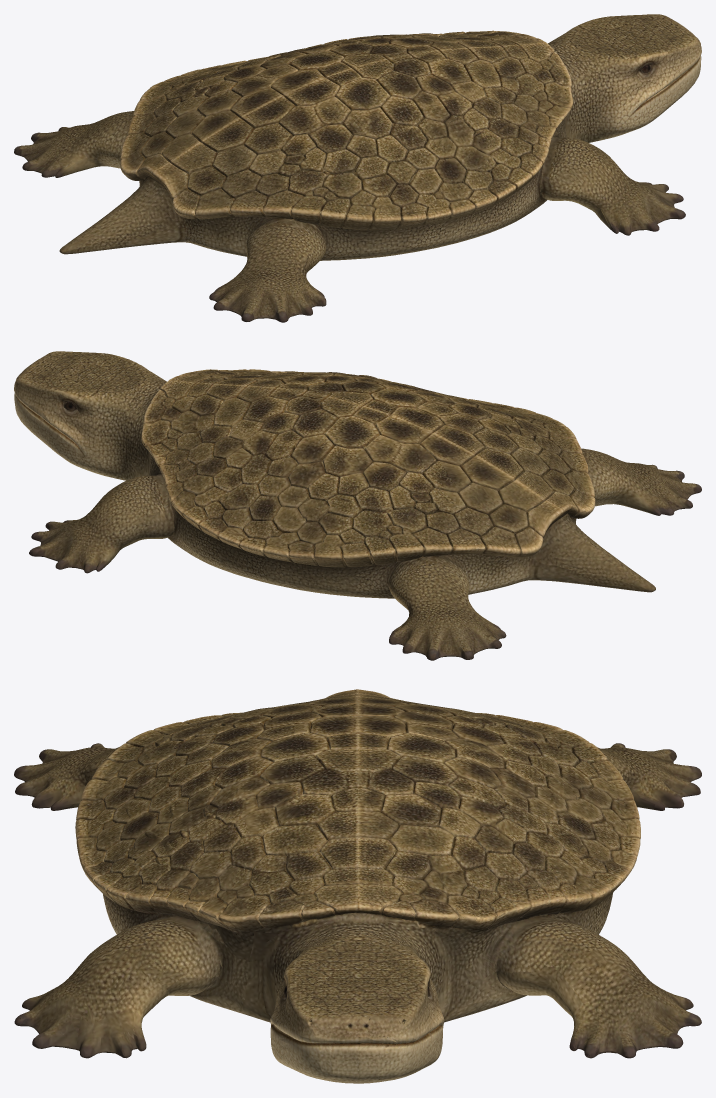
The picture shows the model from 3 angles, top to bottom: view 1: azimuth 30°, elevation 25°; view 2: azimuth 150°, elevation 25°; view 3: azimuth 270°, elevation 25°; orthographic projection. The views are drawn at different scales.
Visible parts, largest first — view 1: Authored orientation; view 2: Authored orientation; view 3: Authored orientation.
Boxes of the visible parts, x1=… form: Authored orientation: x1=14, y1=14, x2=701, y2=322; Authored orientation: x1=14, y1=351, x2=701, y2=660; Authored orientation: x1=14, y1=689, x2=701, y2=1083.
Size of the model in its own units: 1.08 by 0.1908 by 0.7495.
1 material, 1 textured.
